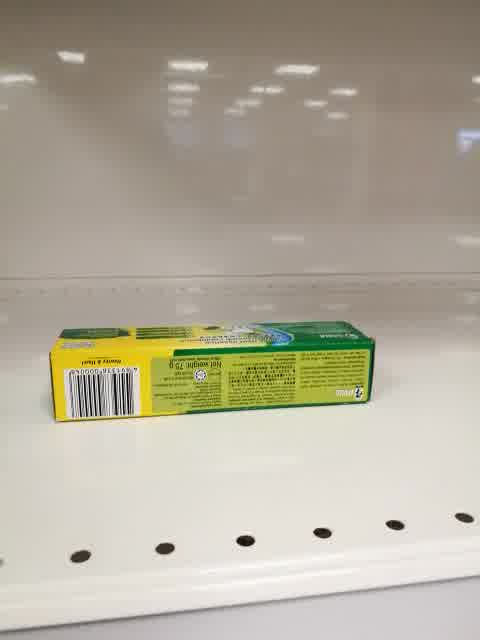toothpaste: (48, 319, 375, 422)
